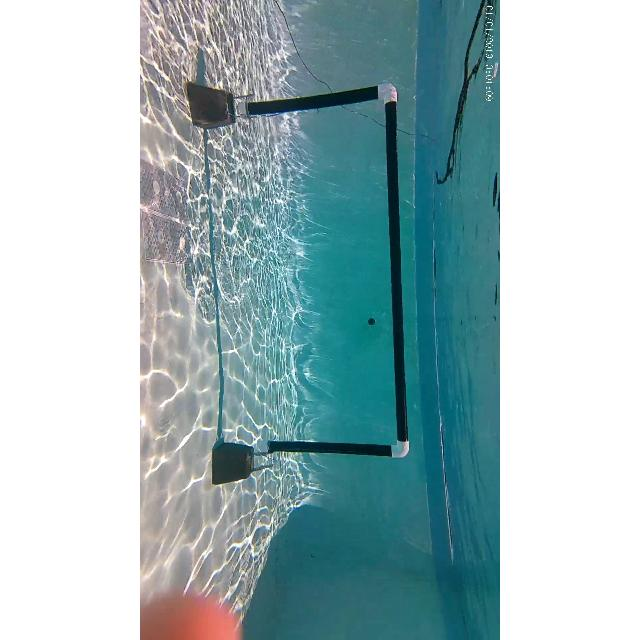prequal gate: (237, 82, 407, 458)
prequal gate leg l: (182, 73, 406, 131)
prequal gate leg r: (202, 433, 414, 487)
